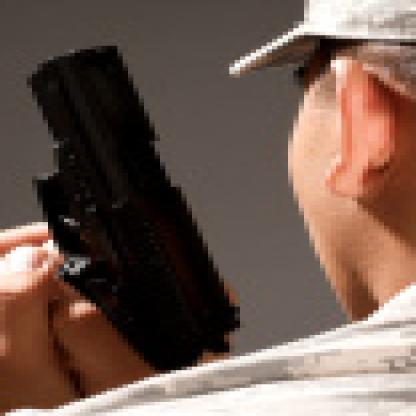gun: (0, 28, 251, 395)
